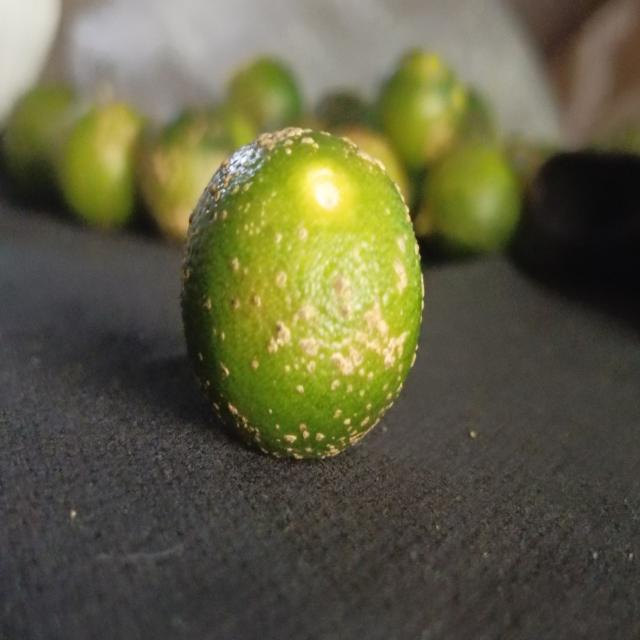scab: (174, 118, 426, 465)
